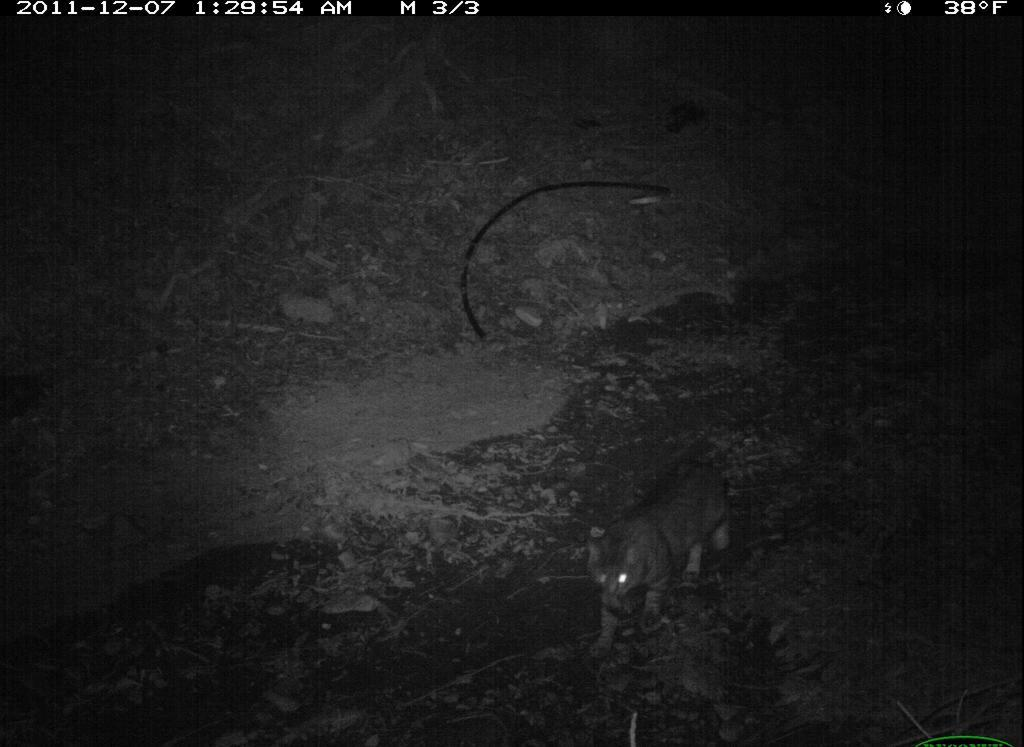cat: (577, 443, 777, 665)
